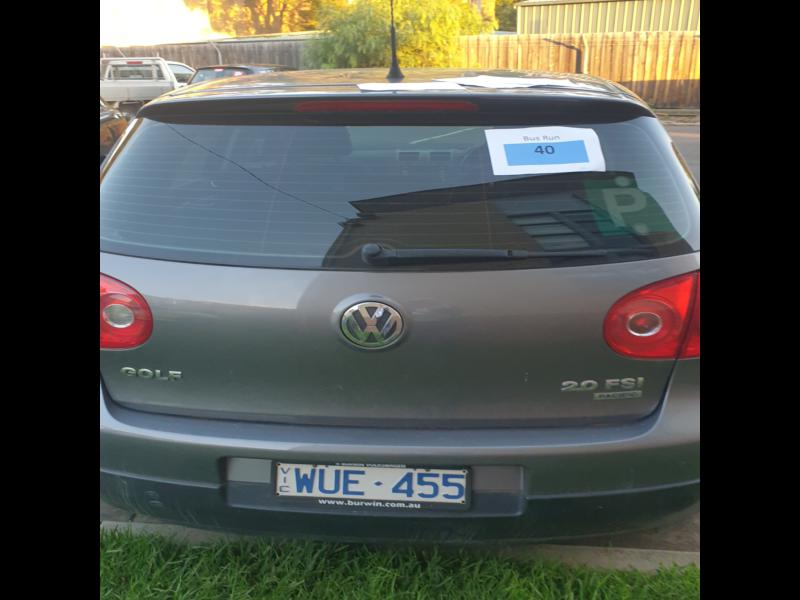BusRun: (503, 141, 589, 163)
PlateNo: (276, 458, 467, 508)
